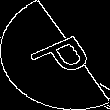P_NE: (16, 27, 94, 83)
